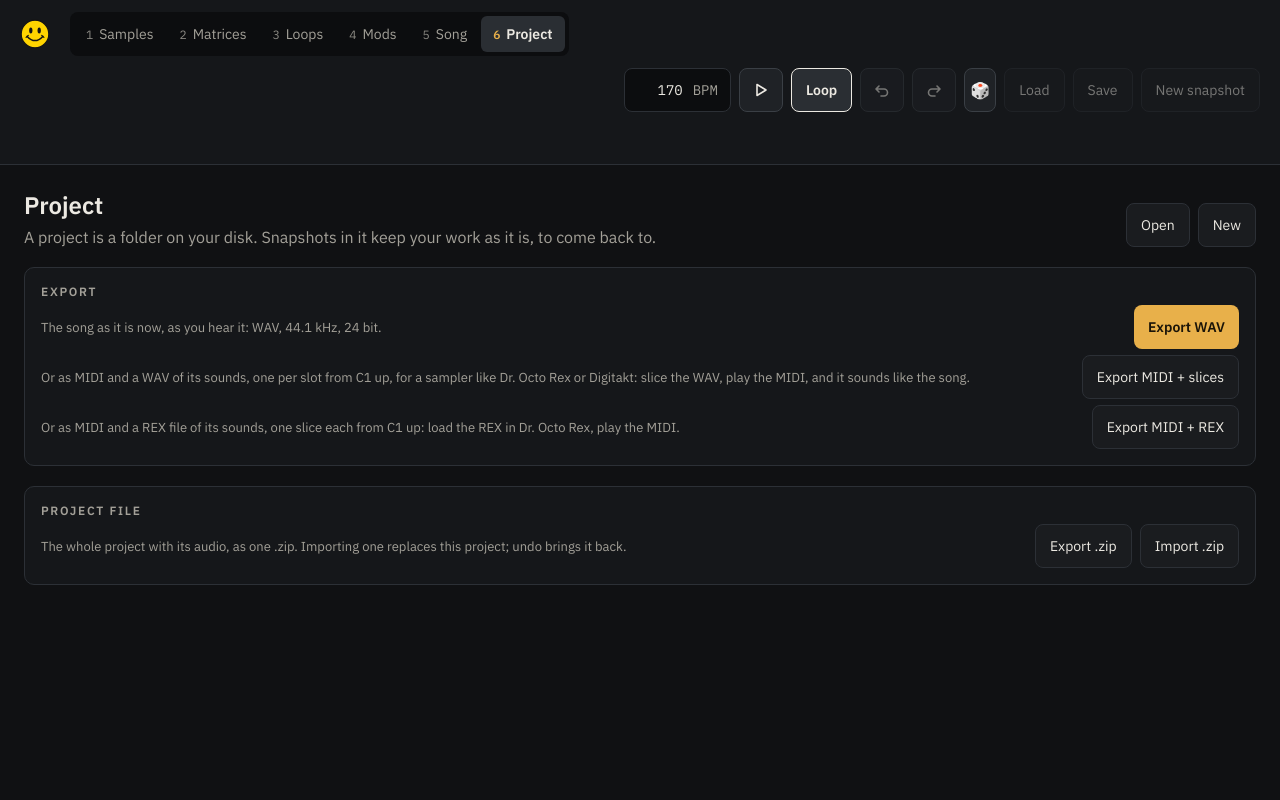
Test case: Project › New in a folder that already has a project says to use Open
Click the button "New": (1227, 225) [1198,203,1256,247]
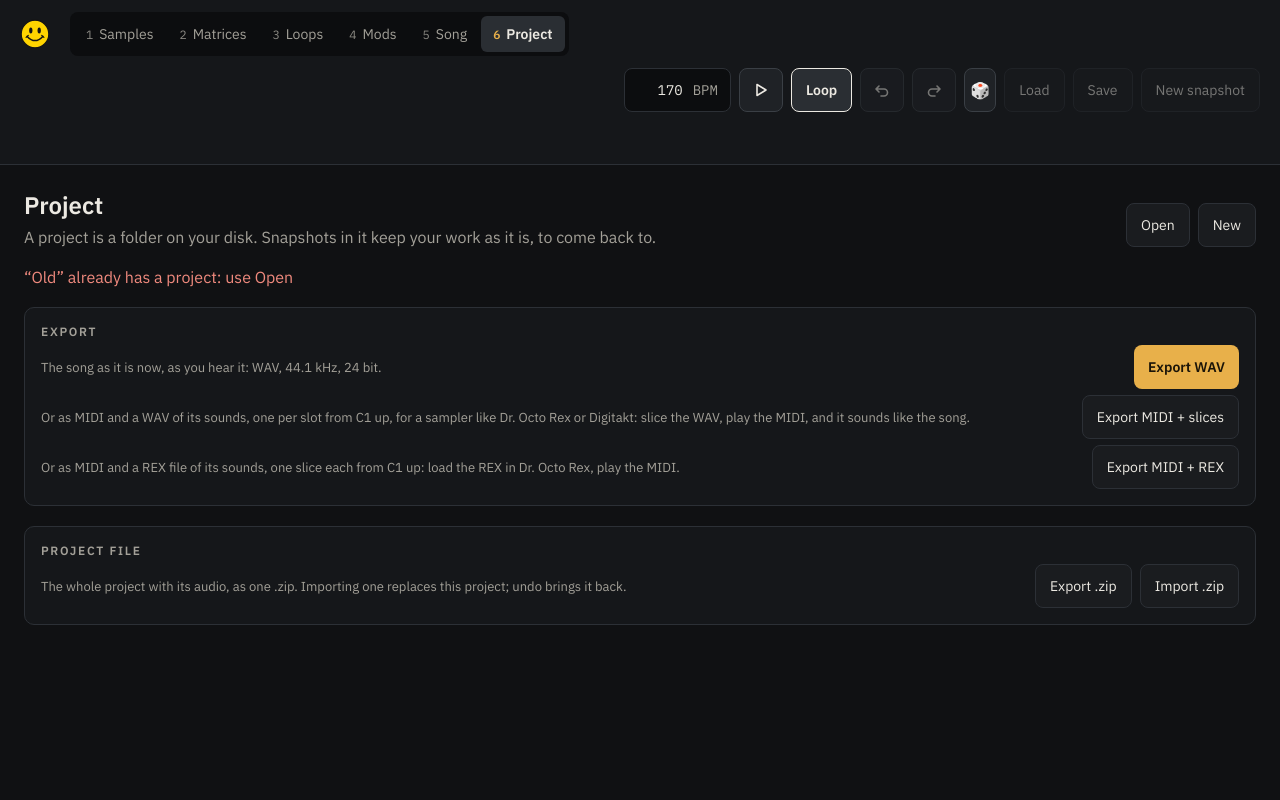
Now the message reads "“Old” already has a project: use Open", box [24,267,293,287]
